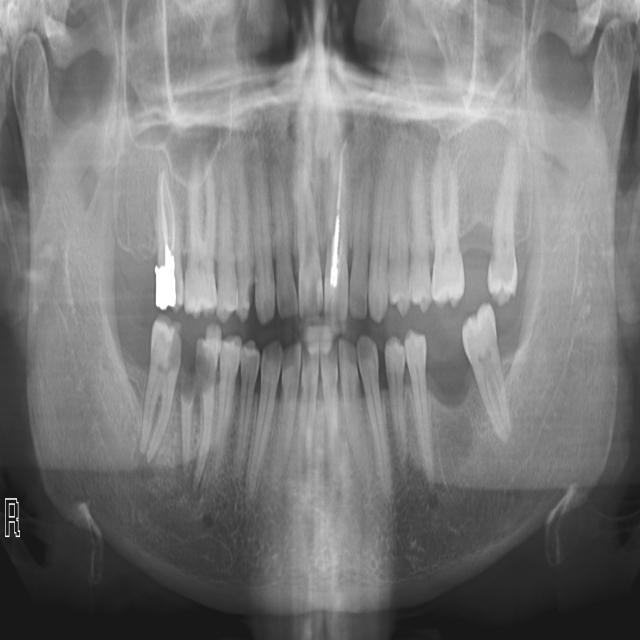tooth: (462, 304, 509, 440), (141, 320, 180, 459), (294, 131, 322, 315), (430, 152, 462, 304), (488, 149, 520, 301), (358, 339, 390, 487), (185, 164, 216, 315), (323, 151, 349, 324), (270, 156, 298, 316), (249, 157, 275, 317), (252, 343, 280, 489), (155, 166, 183, 311), (406, 331, 431, 472), (195, 330, 219, 474), (408, 160, 431, 309), (232, 166, 254, 318), (368, 176, 389, 319), (388, 173, 409, 314), (382, 335, 407, 453), (216, 173, 236, 319), (339, 341, 363, 451), (217, 337, 239, 446), (298, 341, 319, 448), (241, 341, 259, 462), (282, 342, 300, 462), (321, 339, 338, 448)
